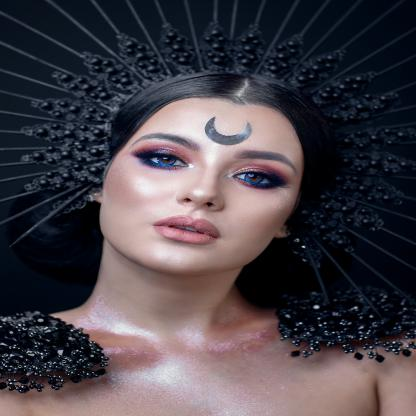Eye: (223, 161, 286, 192), (132, 144, 196, 173)
Mouth: (149, 211, 229, 248)
Nose: (179, 164, 228, 212)
